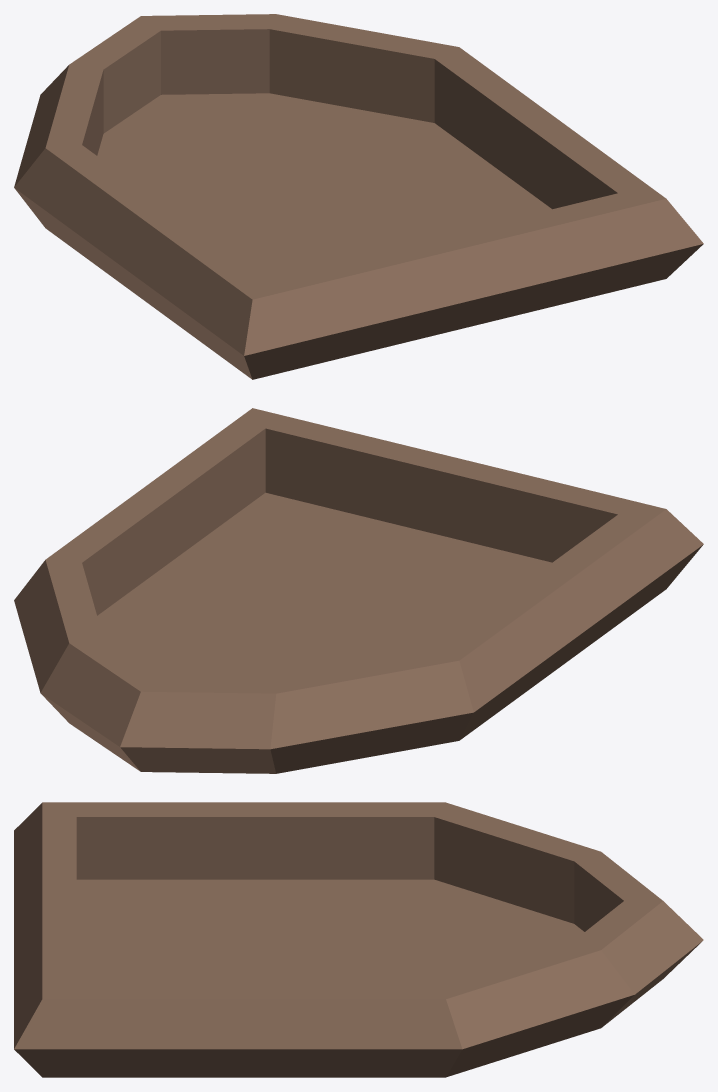
File: prop-boat.fbx
3 views of the same model, one above another, from view 1: azimuth 30°, elevation 25°; view 2: azimuth 150°, elevation 25°; view 3: azimuth 270°, elevation 25° (orthographic). The views are drawn at different scales.
Parts seen in each view (by area): view 1: prop_boat; view 2: prop_boat; view 3: prop_boat.
Boxes of the visible parts, x1=… form: prop_boat: x1=14, y1=14, x2=703, y2=379; prop_boat: x1=14, y1=408, x2=703, y2=773; prop_boat: x1=14, y1=802, x2=703, y2=1077.
Size of the model in its own units: 75 by 12.5 by 100.
